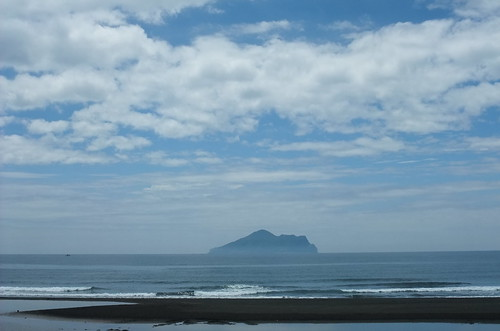turtleIsland: (206, 228, 317, 254)
